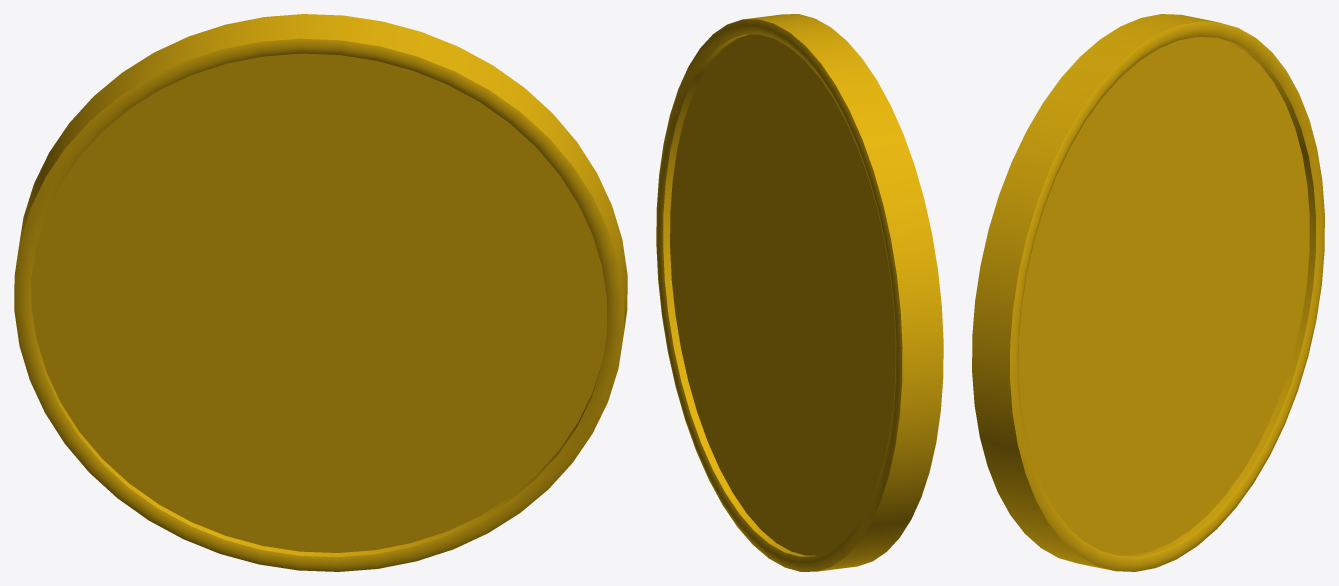
Rendered from goldCoin.glb.
3 views of the same model, side by side, from view 1: azimuth 30°, elevation 25°; view 2: azimuth 150°, elevation 25°; view 3: azimuth 270°, elevation 25° (orthographic). The views are drawn at different scales.
Visible parts, largest first — view 1: goldCoin.001; view 2: goldCoin.001; view 3: goldCoin.001.
Part boxes in pixels (x1,y1,x2,y2): goldCoin.001: [14, 14, 627, 571]; goldCoin.001: [656, 14, 943, 571]; goldCoin.001: [972, 14, 1324, 571].
Bounding box in the file's own units: 0.1632 × 0.1869 × 0.1178.
Materials: 1 (1 with a texture image).
